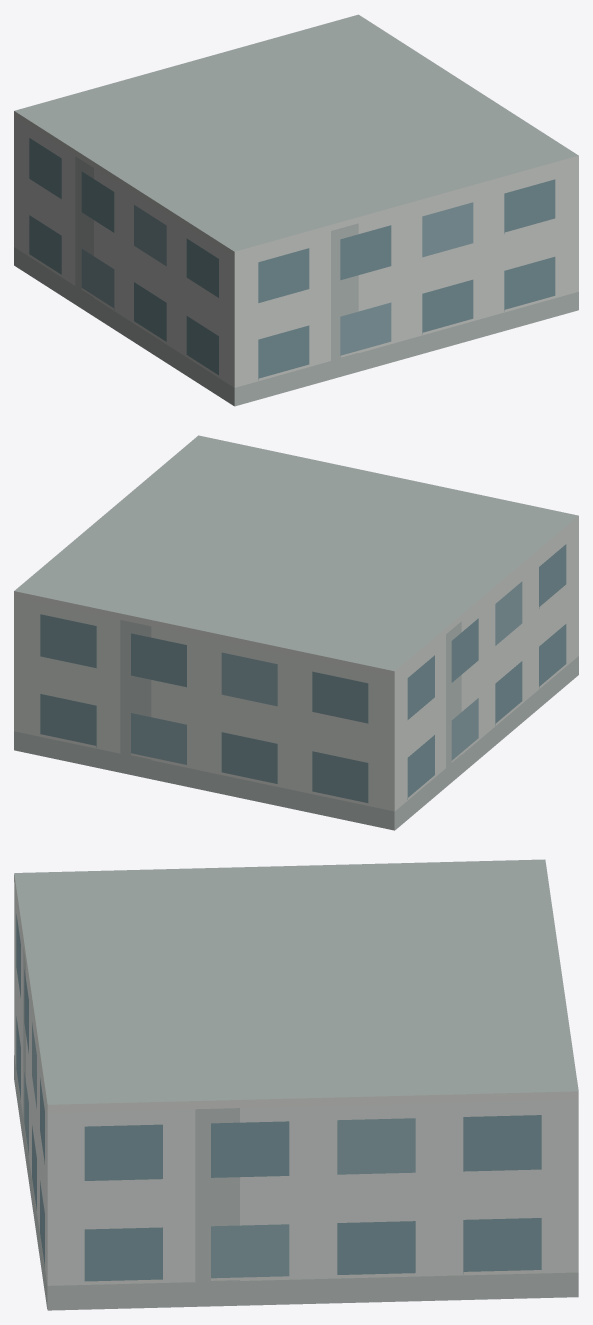
File: survey-upis-32770591.glb
3 views of the same model, one above another, from view 1: azimuth 30°, elevation 25°; view 2: azimuth 150°, elevation 25°; view 3: azimuth 270°, elevation 25° (orthographic). The views are drawn at different scales.
Parts seen in each view (by area): view 1: survey-upis-32770591.tmp; view 2: survey-upis-32770591.tmp; view 3: survey-upis-32770591.tmp.
Boxes of the visible parts, x1,y1,x2,y2 form: survey-upis-32770591.tmp: [14, 14, 578, 406]; survey-upis-32770591.tmp: [14, 435, 578, 830]; survey-upis-32770591.tmp: [14, 859, 578, 1310].
Size of the model in its own units: 15.61 by 6.1 by 15.18.
